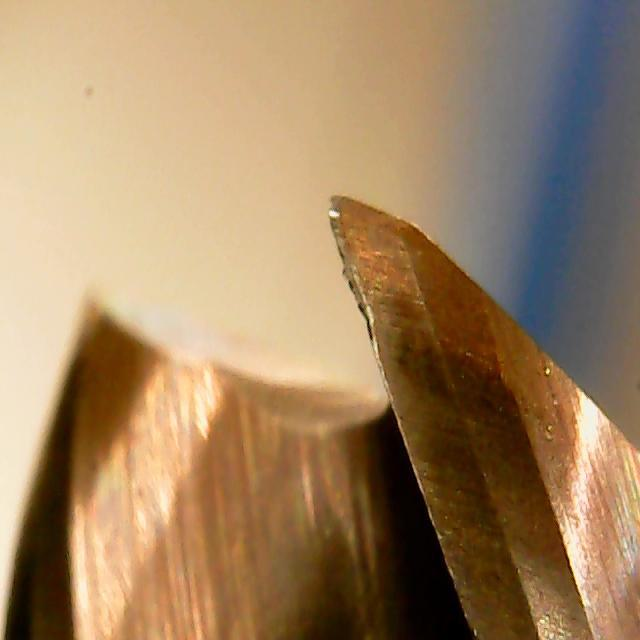Tool-wear-class-1: (311, 186, 498, 434)
